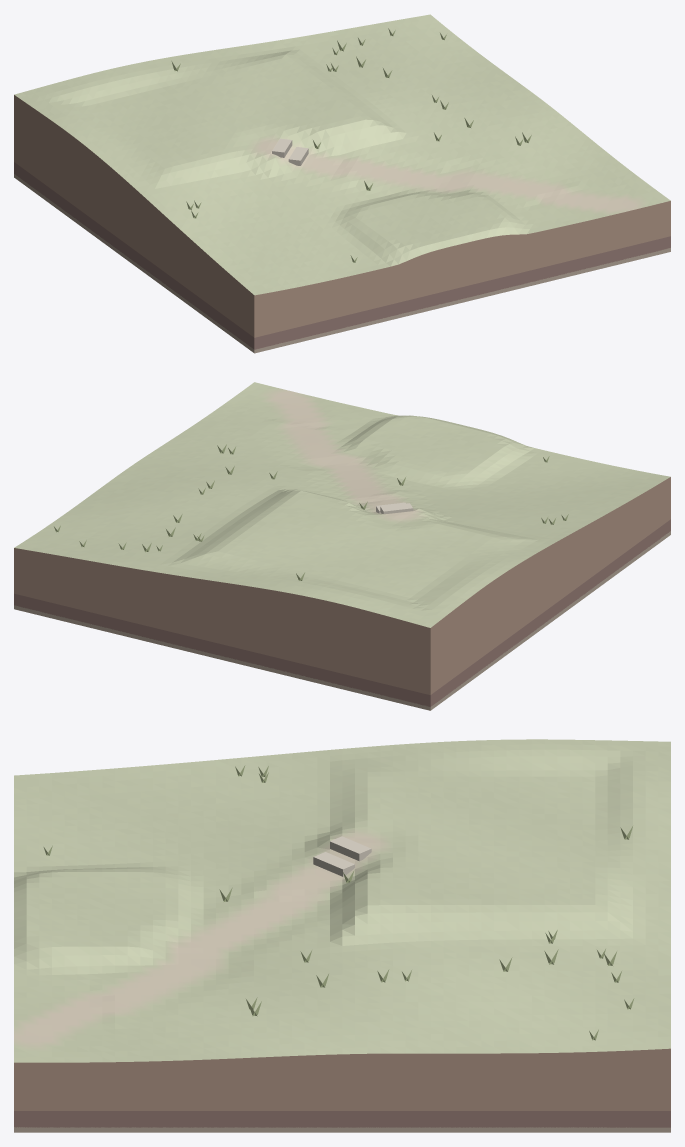
3 views of the same model, one above another, from view 1: azimuth 30°, elevation 25°; view 2: azimuth 150°, elevation 25°; view 3: azimuth 270°, elevation 25° (orthographic). The views are drawn at different scales.
Visible parts, largest first — view 1: proc_ground, proc_skirt, proc_grass, proc_steps; view 2: proc_ground, proc_skirt, proc_grass; view 3: proc_ground, proc_skirt, proc_grass, proc_steps.
Part boxes in pixels (x1,y1,x2,y2): proc_ground: (14,14,670,295); proc_skirt: (14,95,670,353); proc_grass: (171,28,531,262); proc_steps: (272,138,308,165); proc_ground: (14,382,670,627); proc_skirt: (14,477,670,710); proc_grass: (54,444,568,580); proc_ground: (14,739,670,1062); proc_skirt: (14,1048,670,1132); proc_grass: (43,765,634,1040); proc_steps: (313,836,371,876).
Bounding box in the file's own units: 8 × 1.69 × 8.
